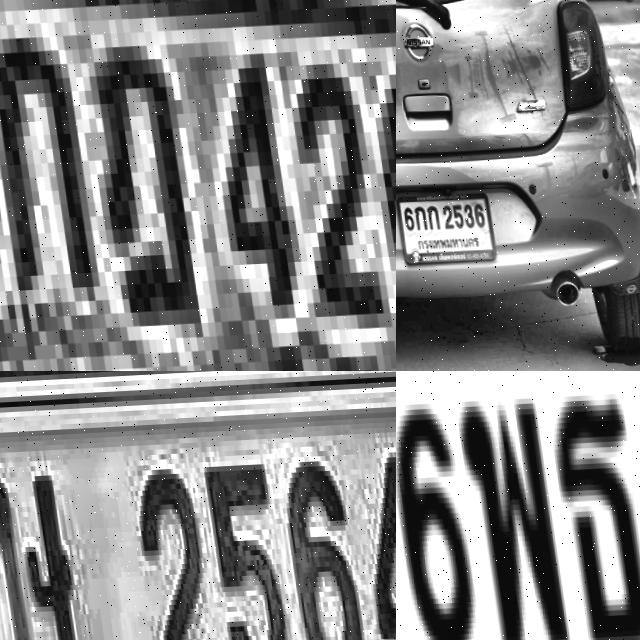license-plate: (0, 0, 396, 371), (0, 371, 396, 640), (396, 371, 640, 640), (396, 181, 490, 271)
